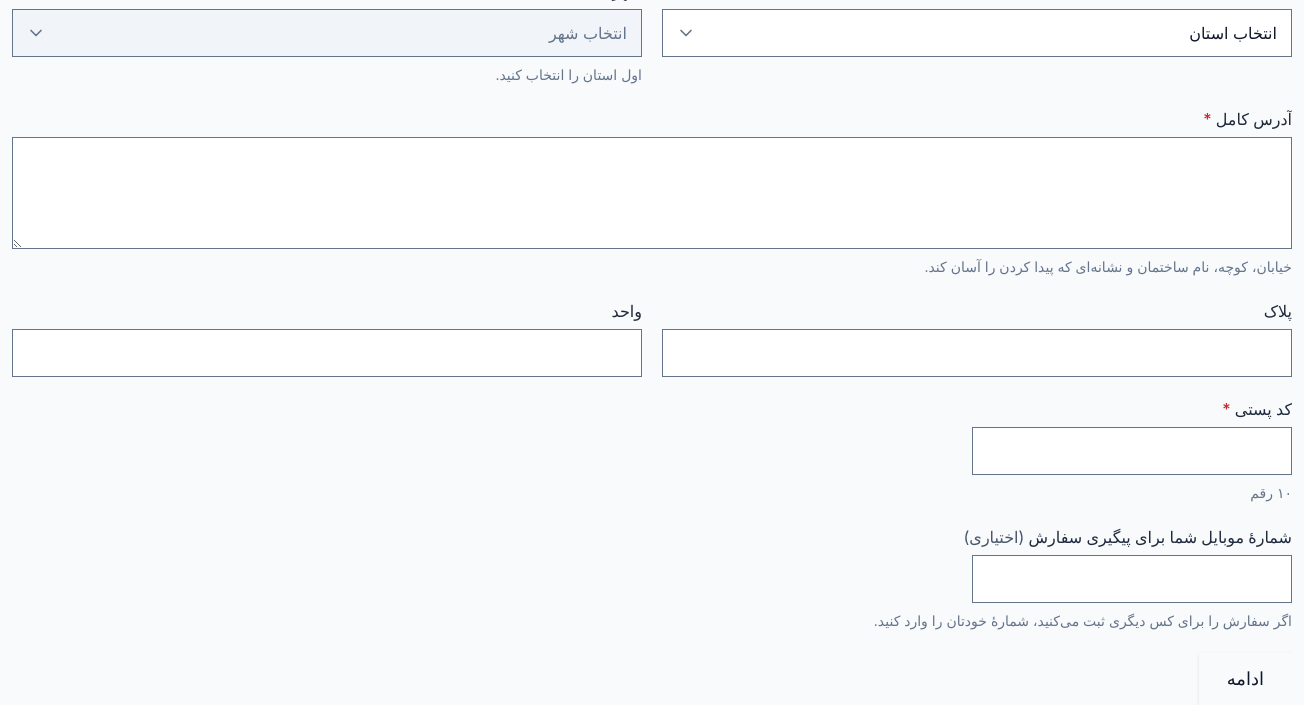
it: ReceiverSection, guest › «ادامه» checks everything the API will: the postal code is required here
(page scrolled)
Step 1. Click the button "ادامه" → (1245, 679), box x1=1199 y1=653 x2=1292 y2=704
(page scrolled)
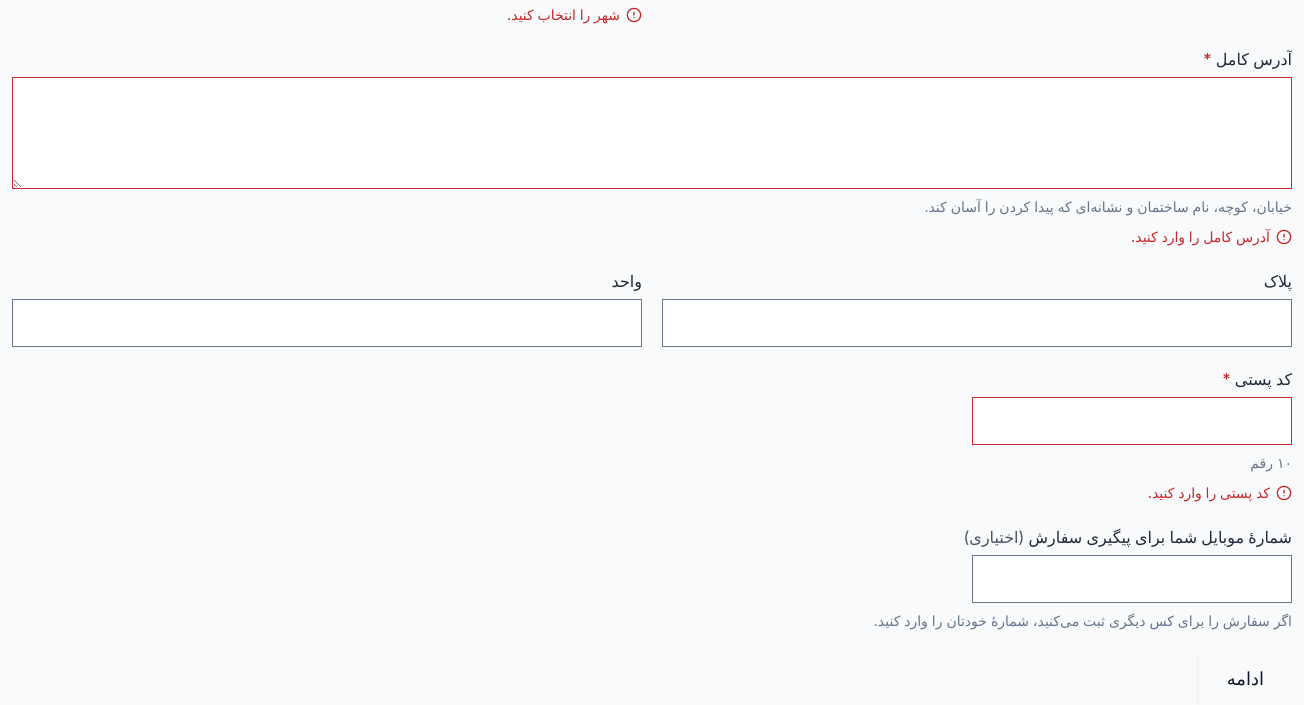
Expected: the field labelled "کد پستی *" is marked as invalid, x1=973 y1=398 x2=1291 y2=444
